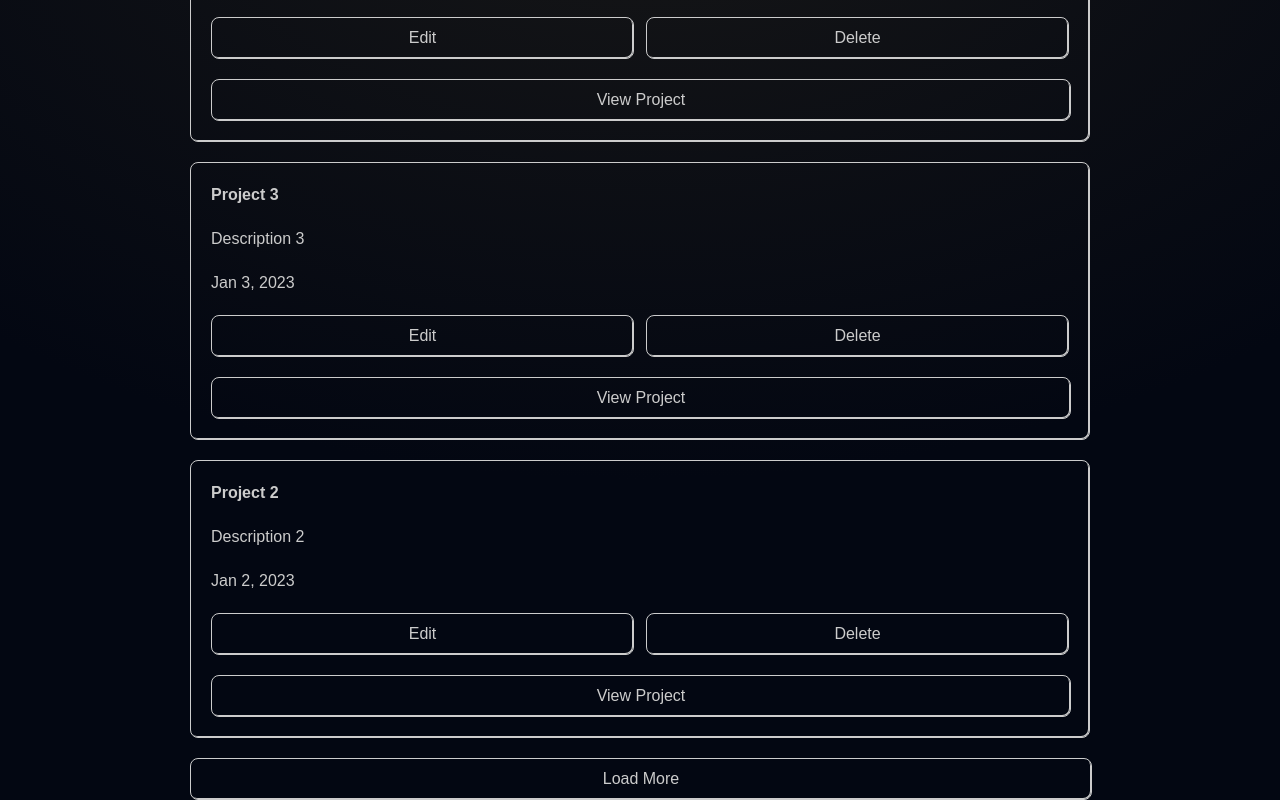
Test: Portfolio › renders the "Load More" button and loads additional projects when clicked
(page scrolled)
Click the button "Load More". click: point(641, 779)
box: [190,758,1092,799]
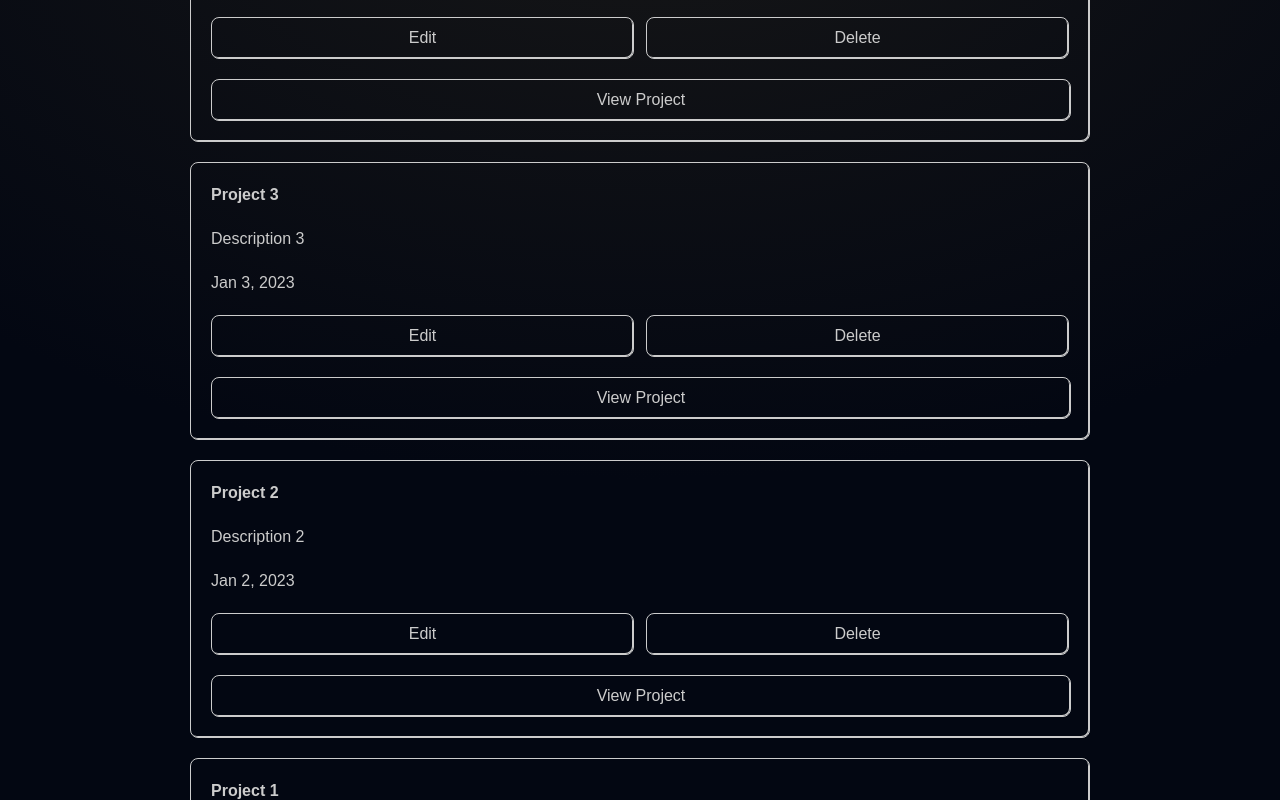
Now the number of headings is 6
Now the button "Load More" is gone
